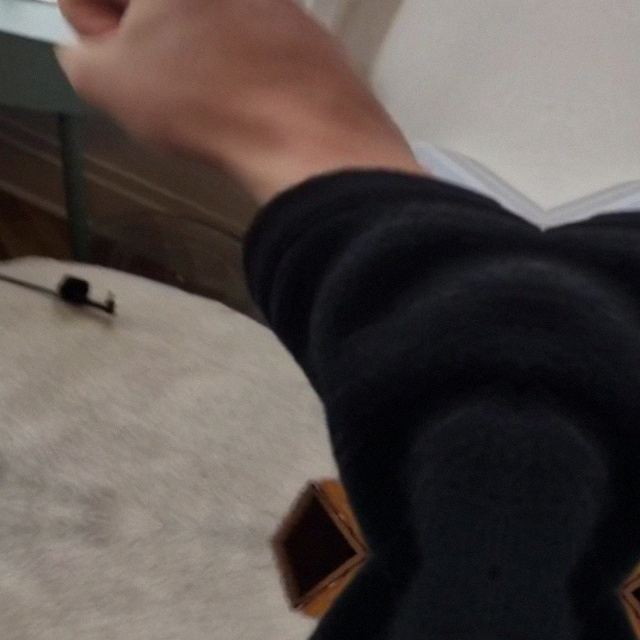Rock: (8, 0, 423, 217)
